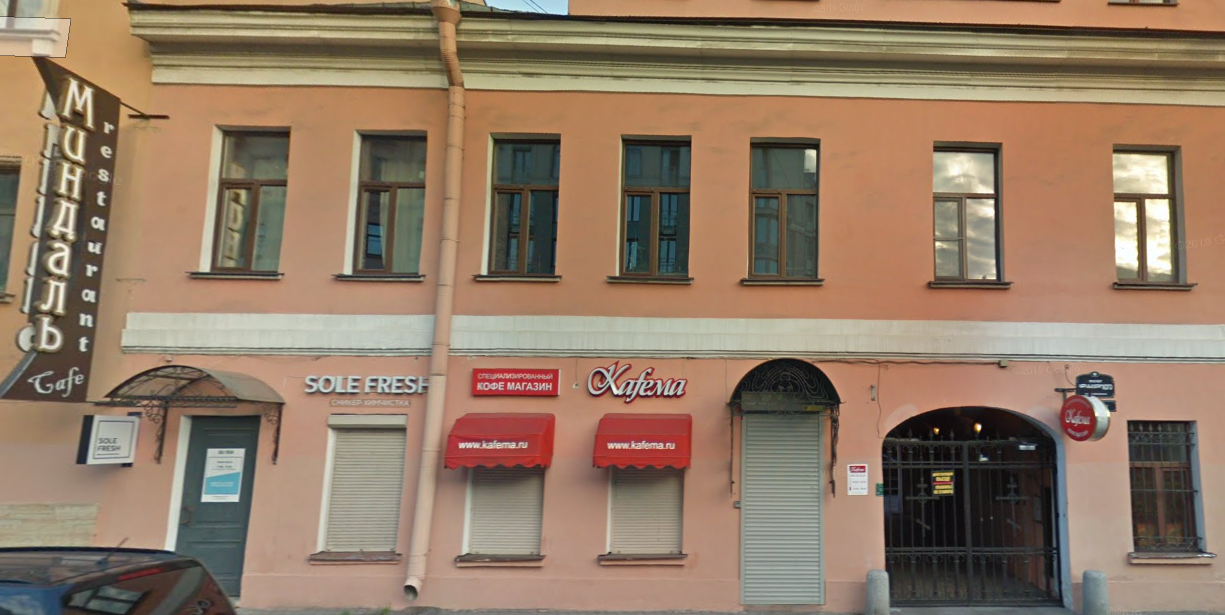arch: (881, 402, 1070, 610)
cantilever: (2, 48, 175, 408), (1049, 377, 1114, 442), (76, 405, 142, 469)
door: (175, 413, 261, 598)
signboard: (587, 360, 693, 407), (299, 370, 430, 398), (472, 364, 556, 401)
window: (204, 131, 292, 275), (347, 133, 430, 276), (322, 421, 400, 560), (1128, 422, 1207, 557), (745, 140, 818, 283), (619, 141, 692, 280), (1114, 151, 1183, 284), (486, 141, 556, 271), (932, 151, 996, 282), (462, 469, 543, 557), (610, 468, 681, 553)
